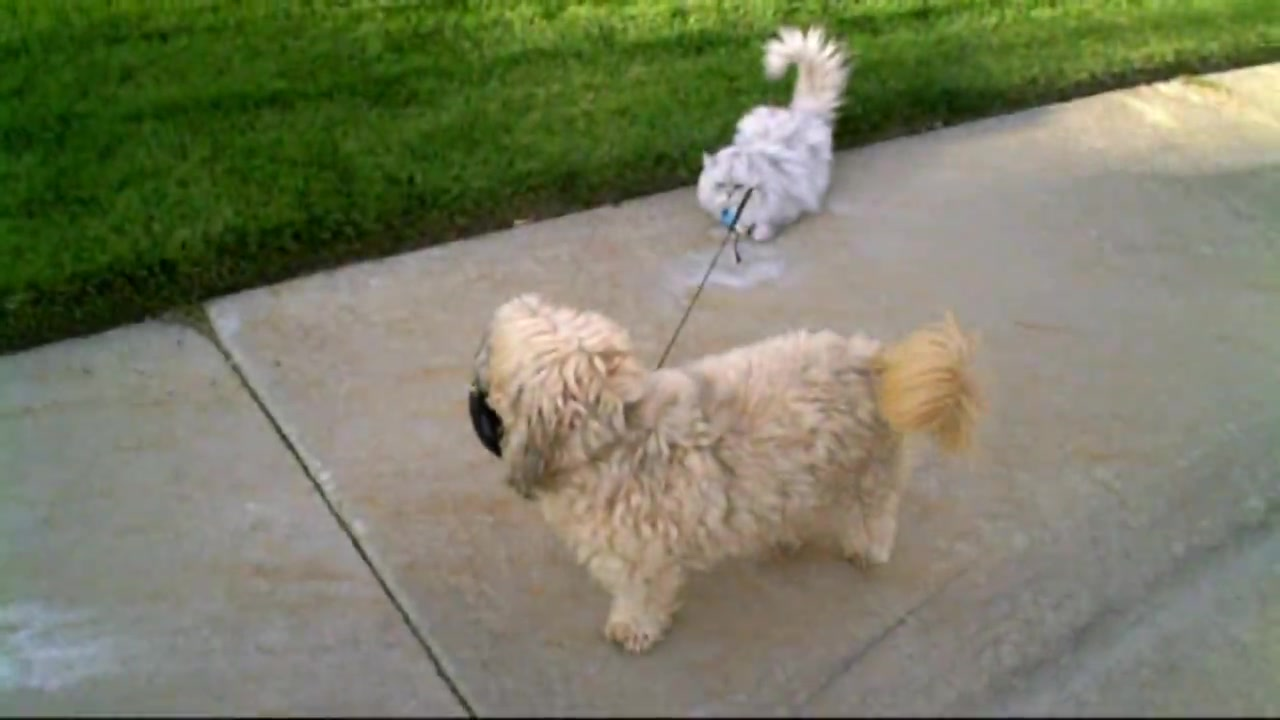dog: (464, 300, 979, 663)
